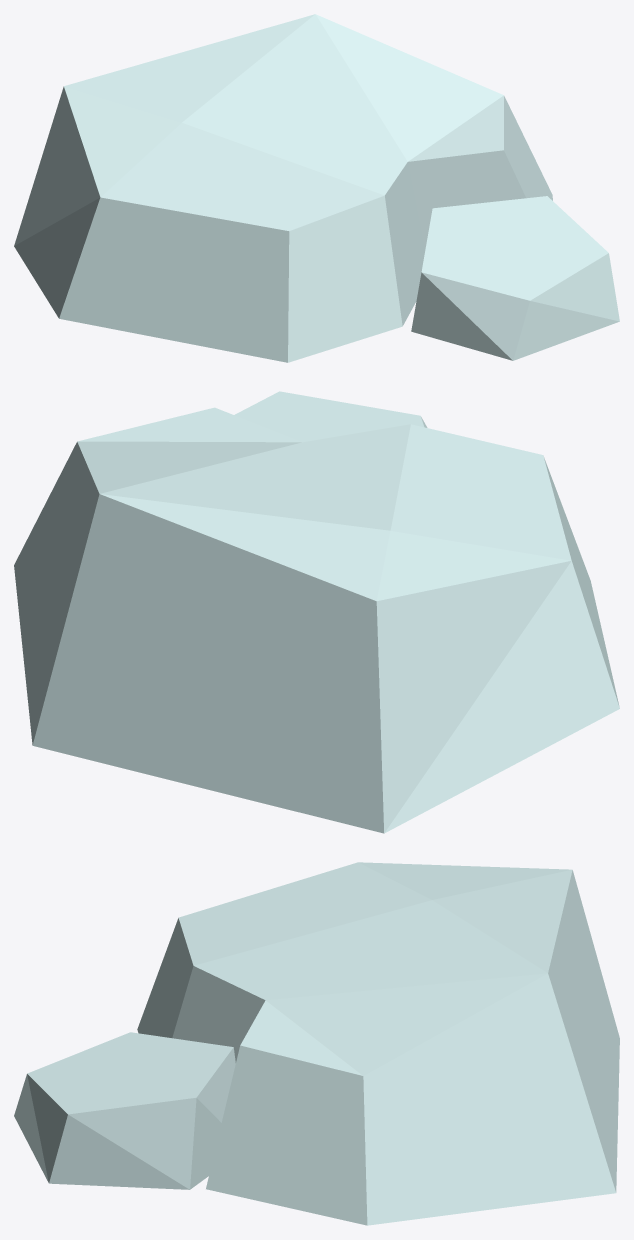
Rendered from stone-flat_white.glb.
3 views of the same model, one above another, from view 1: azimuth 30°, elevation 25°; view 2: azimuth 150°, elevation 25°; view 3: azimuth 270°, elevation 25° (orthographic). The views are drawn at different scales.
Visible parts, largest first — view 1: stone-flat_winter; view 2: stone-flat_winter; view 3: stone-flat_winter.
Part boxes in pixels (box(x1,y1,x2,y2)): stone-flat_winter: box(14, 14, 619, 362); stone-flat_winter: box(14, 391, 619, 833); stone-flat_winter: box(14, 862, 619, 1225).
Bounding box in the file's own units: 2.32 × 0.8823 × 2.26.
1 material, 1 textured.
